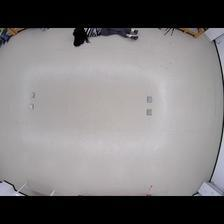fall: (70, 25, 138, 46)
